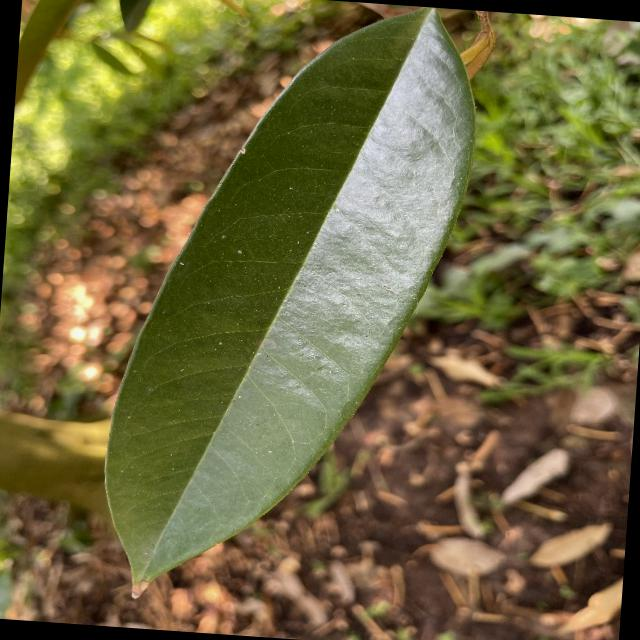No Disease: (90, 0, 492, 623)
